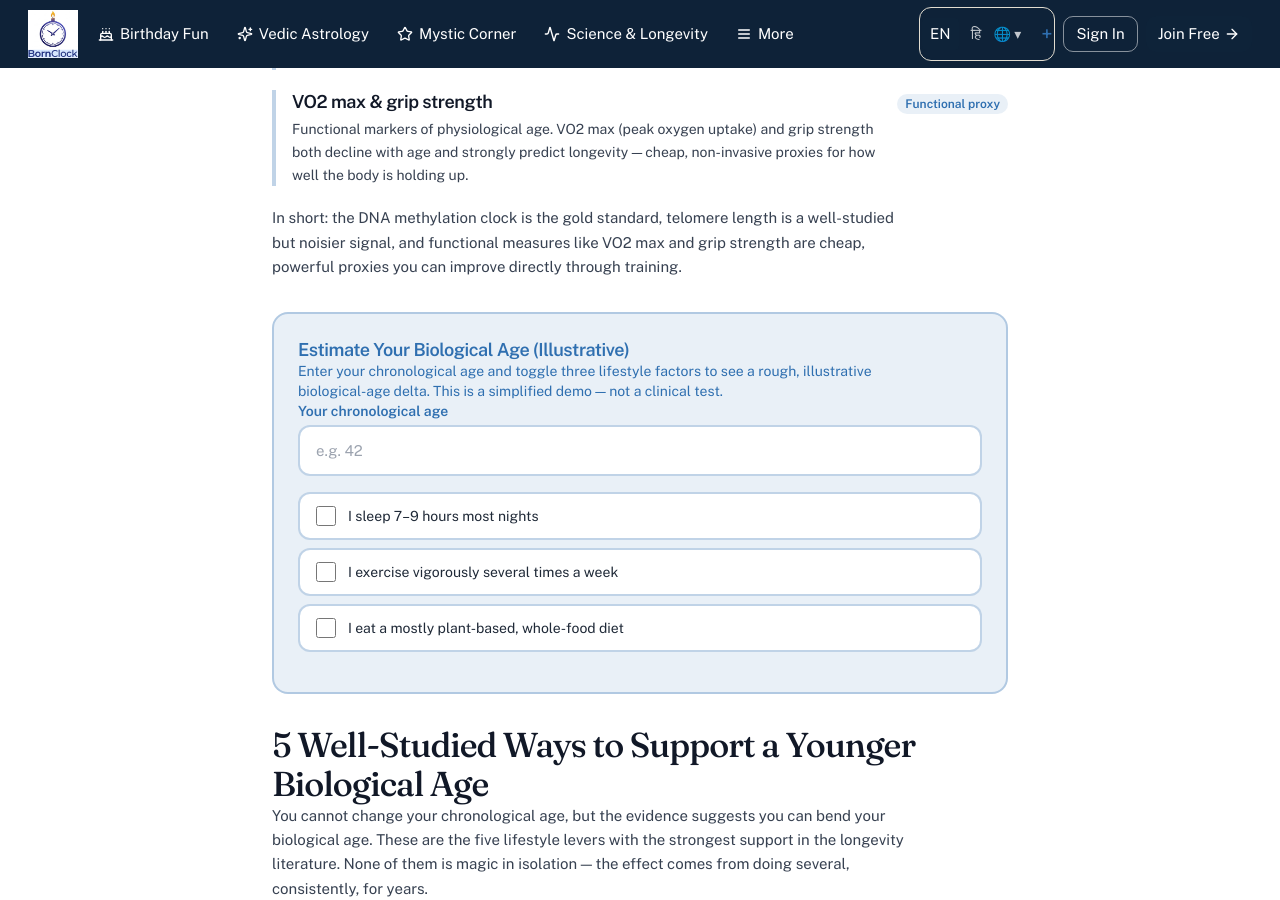
Test: BiologicalAgeArticle › TC-BIO-P-07: entering age shows a biological-age result
(page scrolled)
Type "42" into the number field with id "chrono-age" at {"x": 640, "y": 451}, box x1=298 y1=425 x2=982 y2=476
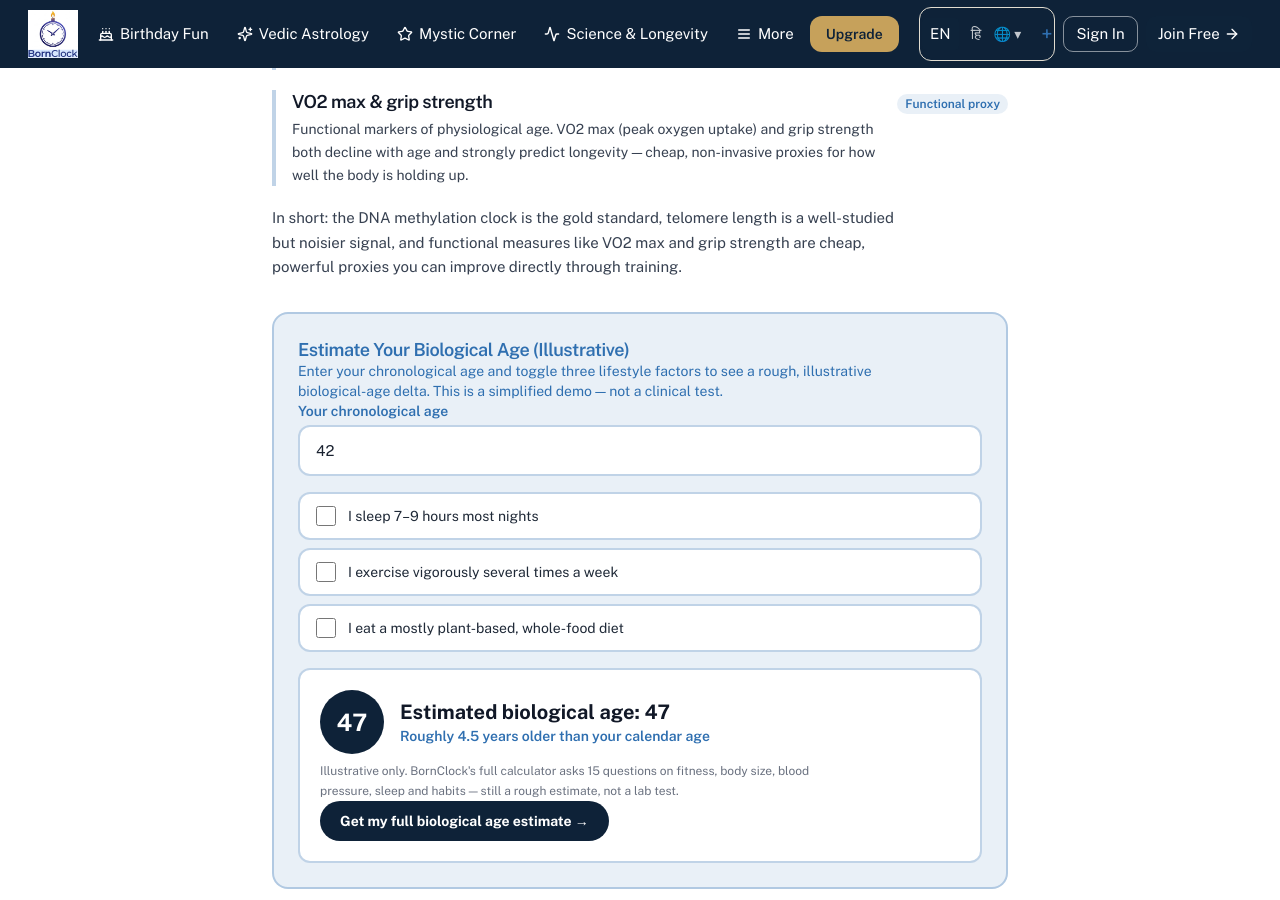
Now the element with test id "bio-age-result" is shown, box x1=298 y1=668 x2=982 y2=863
